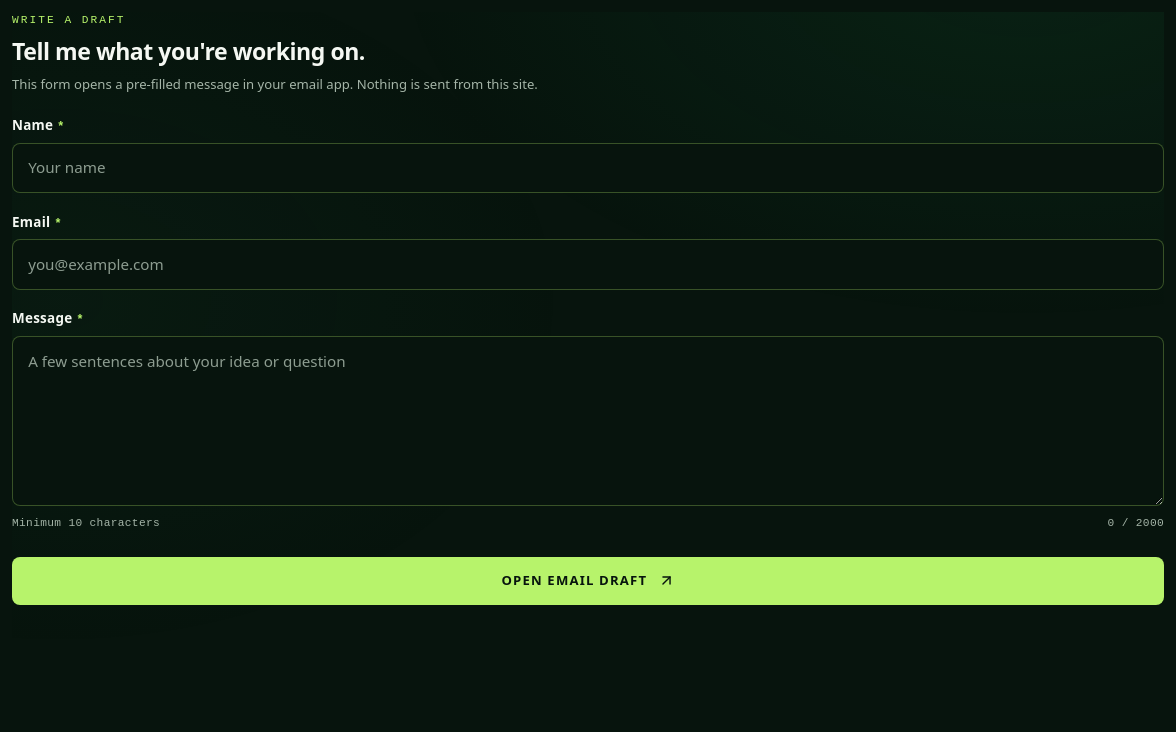
Test: contact form validation › reports the draft status honestly after valid input
The image size is (1176, 732).
Type "Ada Lovelace" into the field labelled "Name *" at point(588, 168), box [12, 142, 1164, 193]
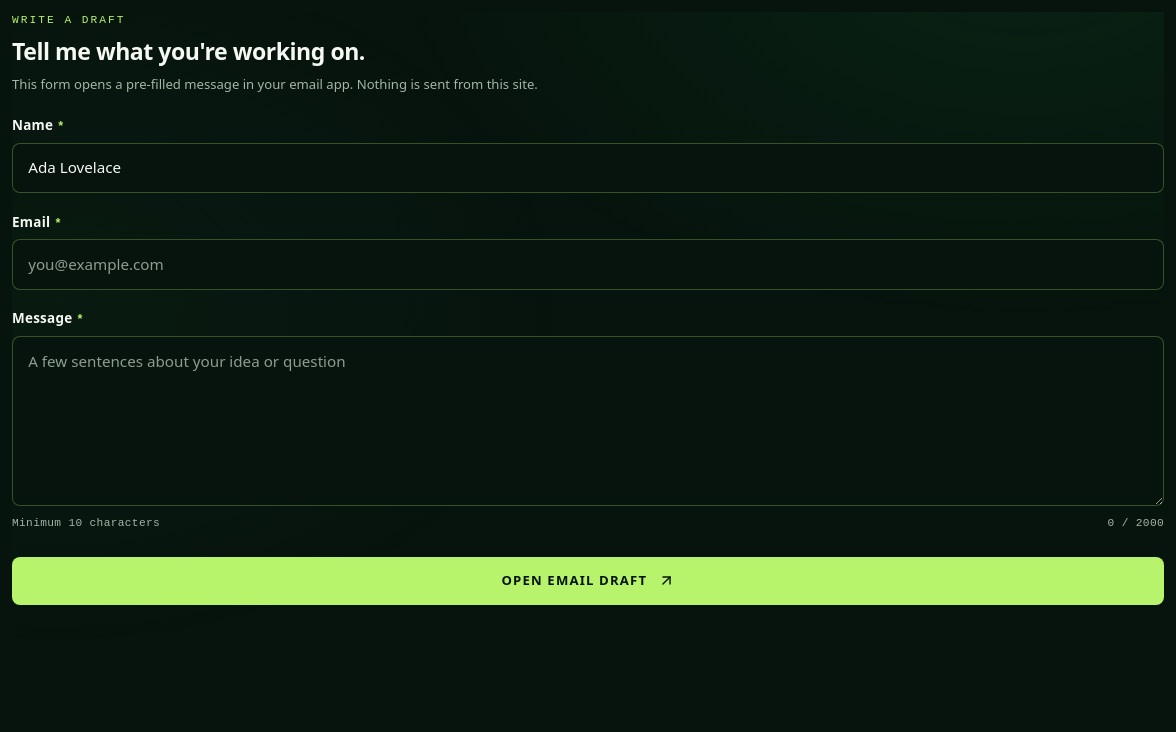
Type "ada@example.com" into the field labelled "Email *" at point(588, 264), box [12, 239, 1164, 290]
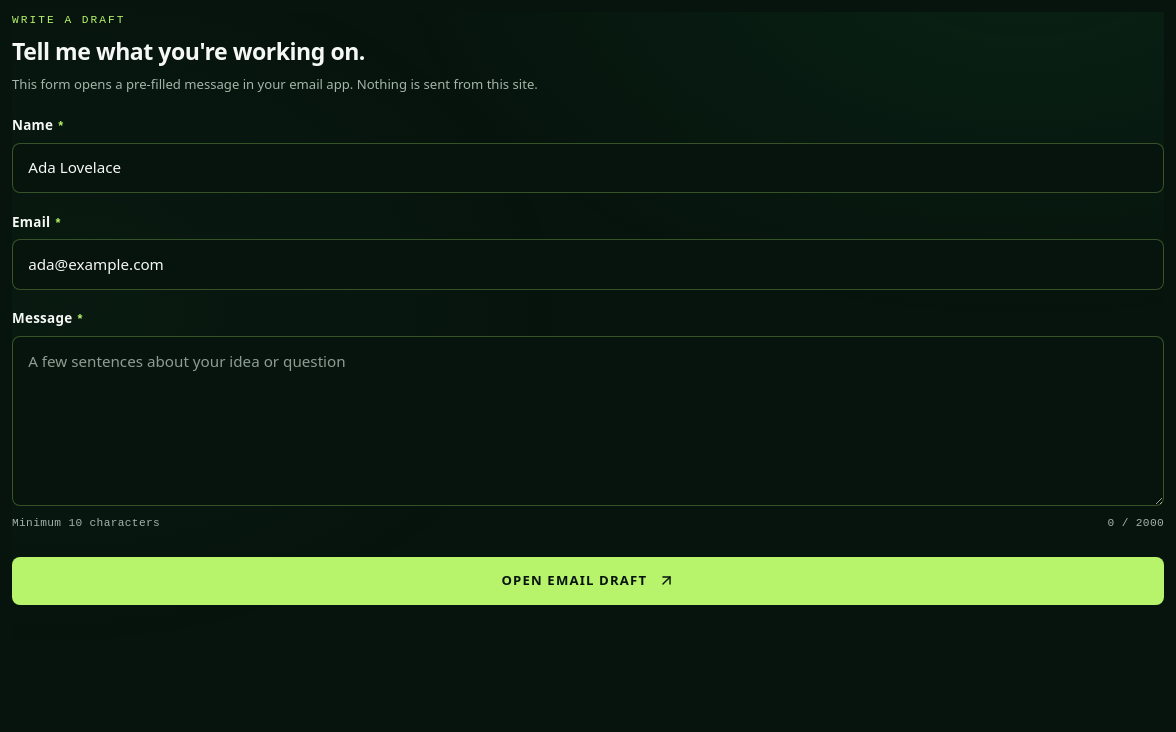
Type "I would like to talk about a software engineering role." into the text box labelled "Message *" at point(588, 421), box [12, 336, 1164, 506]
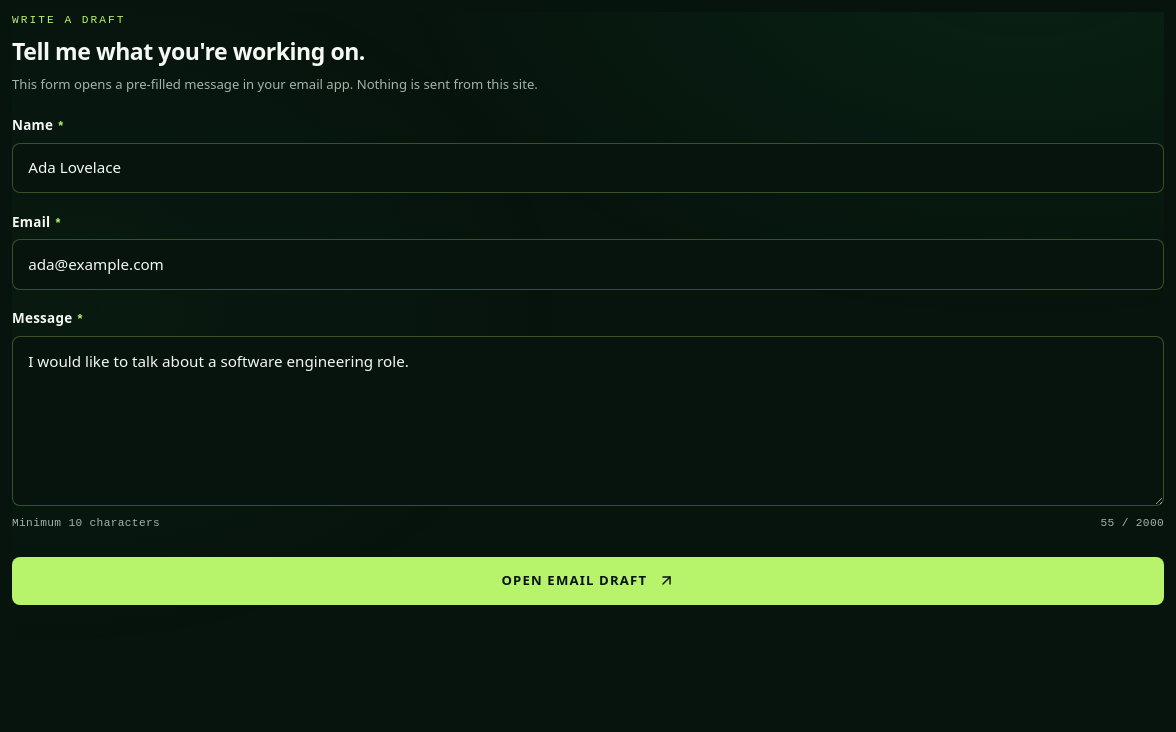
Click the button "Open email draft" at point(588, 581), box [12, 557, 1164, 605]
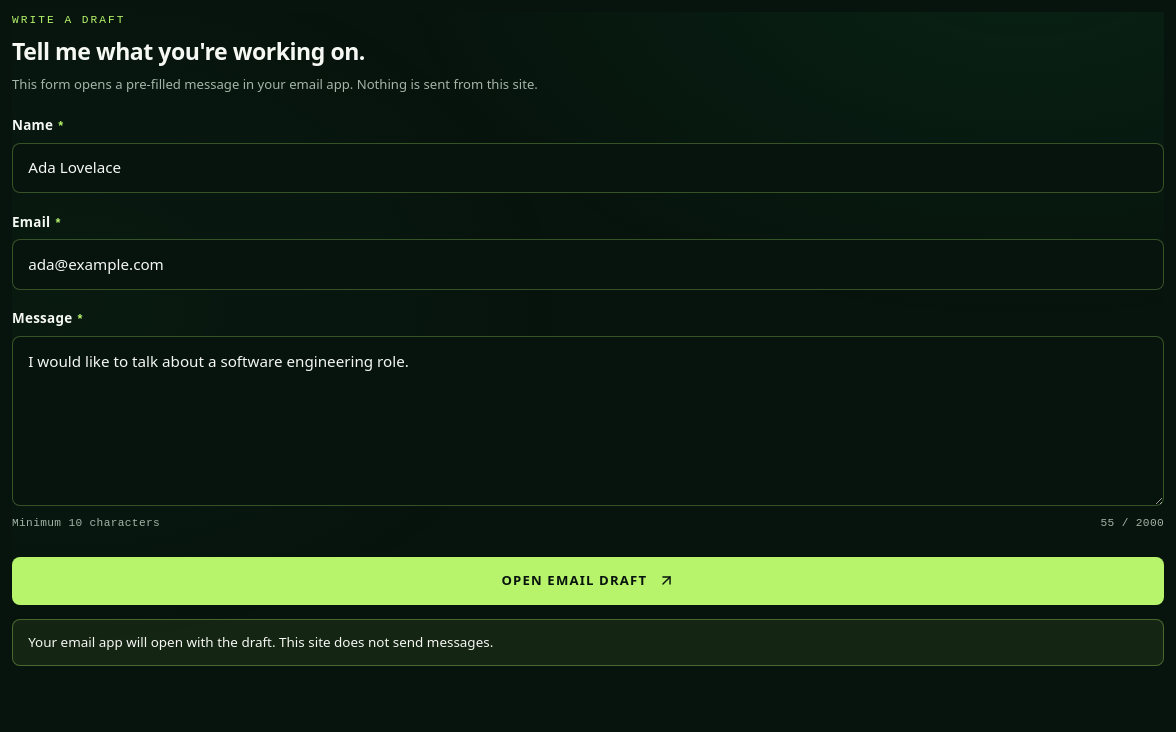
Check: the text "Your email app will open with the draft. This site does not send messages." is shown, box [12, 618, 1164, 666]
